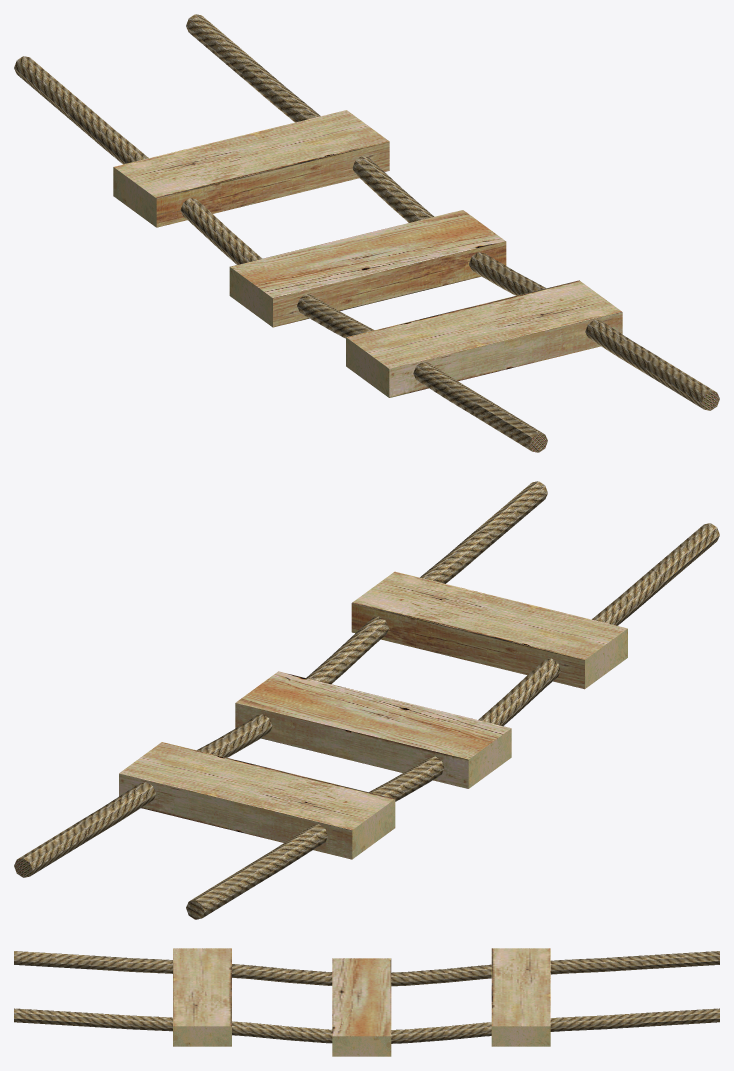
The model's file is Bridge_01.fbx.
3 views of the same model, one above another, from view 1: azimuth 30°, elevation 25°; view 2: azimuth 150°, elevation 25°; view 3: azimuth 270°, elevation 25° (orthographic). The views are drawn at different scales.
Visible parts, largest first — view 1: Bridge01, Object002, Object003, Object001; view 2: Bridge01, Object001, Object003, Object002; view 3: Bridge01, Object002, Object003, Object001.
Boxes of the visible parts, <box> form: Bridge01: <box>14,14,719,452</box>; Object002: <box>113,110,389,227</box>; Object003: <box>229,210,506,327</box>; Object001: <box>346,280,622,397</box>; Bridge01: <box>14,481,719,919</box>; Object001: <box>351,571,627,689</box>; Object003: <box>235,671,511,788</box>; Object002: <box>119,742,395,859</box>; Bridge01: <box>14,951,719,1043</box>; Object002: <box>491,948,550,1046</box>; Object003: <box>332,958,391,1056</box>; Object001: <box>173,948,231,1046</box>.
Bounding box in the file's own units: 500 × 1913 × 115.
